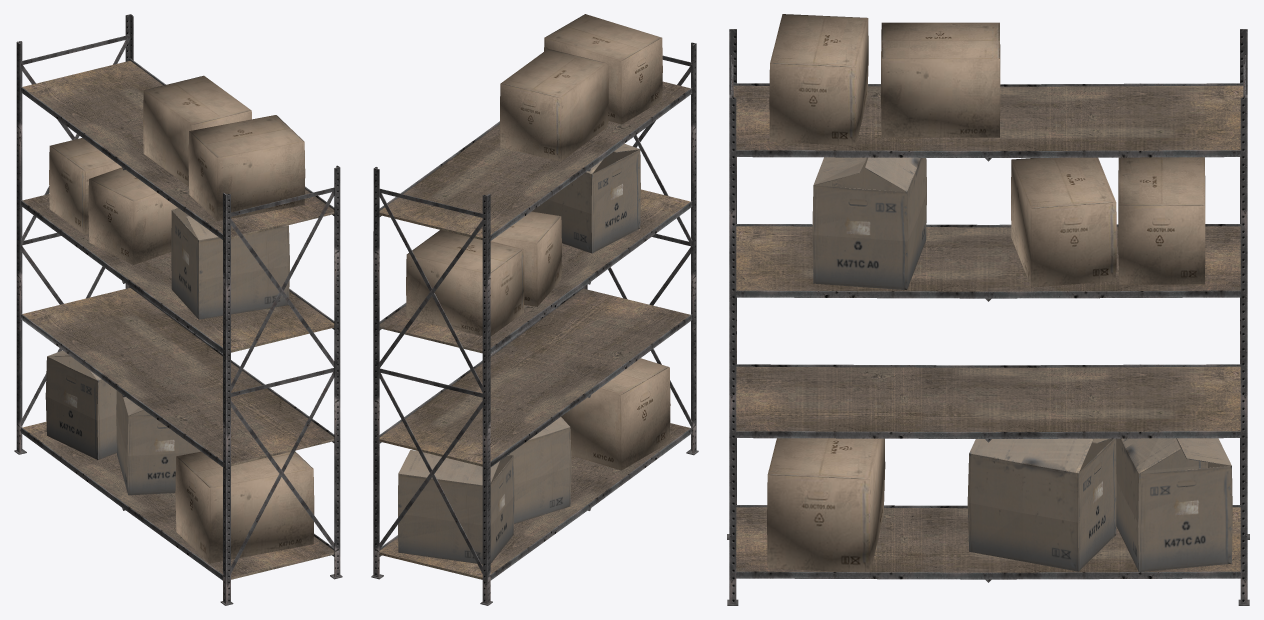
Rendered from rack with boxes.fbx.
3 views of the same model, side by side, from view 1: azimuth 30°, elevation 25°; view 2: azimuth 150°, elevation 25°; view 3: azimuth 270°, elevation 25° (orthographic). The views are drawn at different scales.
Visible parts, largest first — view 1: shelves_ind1, cardbox_s5, cardbox_s3, Group_10_3, cardbox_s2, cardbox_s4, Group_10_1, Group_10_2, cardbox_s1; view 2: shelves_ind1, Group_10_1, cardbox_s4, cardbox_s1, cardbox_s5, Group_10_3, cardbox_s3, Group_10_2, cardbox_s2; view 3: shelves_ind1, Group_10_2, cardbox_s5, Group_10_1, Group_10_3, cardbox_s4, cardbox_s2, cardbox_s3, cardbox_s1.
Part boxes in pixels (x1=…): shelves_ind1: x1=14, y1=14, x2=342, y2=605; cardbox_s5: x1=175, y1=451, x2=314, y2=563; cardbox_s3: x1=188, y1=115, x2=305, y2=221; Group_10_3: x1=171, y1=208, x2=289, y2=319; cardbox_s2: x1=88, y1=167, x2=177, y2=264; cardbox_s4: x1=143, y1=75, x2=251, y2=186; Group_10_1: x1=45, y1=350, x2=116, y2=459; Group_10_2: x1=116, y1=390, x2=200, y2=495; cardbox_s1: x1=49, y1=138, x2=121, y2=234; shelves_ind1: x1=371, y1=42, x2=698, y2=605; Group_10_1: x1=398, y1=450, x2=514, y2=564; cardbox_s4: x1=500, y1=49, x2=608, y2=161; cardbox_s1: x1=406, y1=230, x2=524, y2=336; cardbox_s5: x1=561, y1=358, x2=670, y2=470; Group_10_3: x1=532, y1=143, x2=640, y2=253; cardbox_s3: x1=544, y1=14, x2=662, y2=124; Group_10_2: x1=509, y1=417, x2=571, y2=523; cardbox_s2: x1=491, y1=211, x2=561, y2=306; shelves_ind1: x1=727, y1=29, x2=1249, y2=605; Group_10_2: x1=967, y1=438, x2=1116, y2=571; cardbox_s5: x1=767, y1=438, x2=885, y2=572; Group_10_1: x1=1116, y1=438, x2=1232, y2=571; Group_10_3: x1=812, y1=157, x2=926, y2=289; cardbox_s4: x1=881, y1=22, x2=1000, y2=137; cardbox_s2: x1=1011, y1=157, x2=1116, y2=287; cardbox_s3: x1=769, y1=14, x2=868, y2=145; cardbox_s1: x1=1118, y1=157, x2=1205, y2=284.
Size of the model in its own units: 0.6233 by 2.17 by 1.94.
